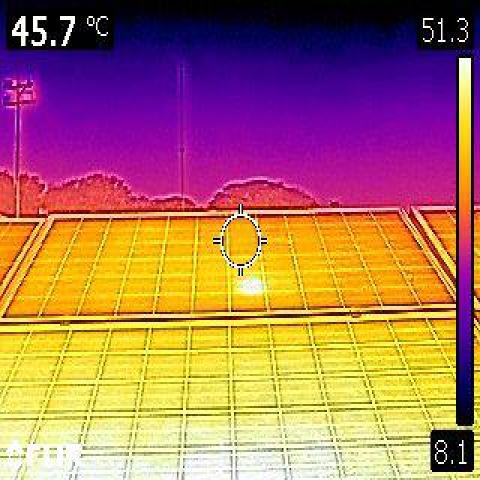fault: (234, 275, 262, 290)
